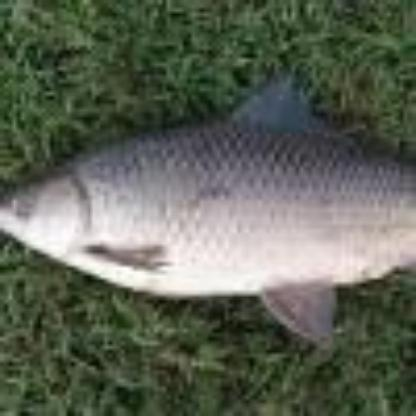ikan-mas: (0, 116, 416, 334)
